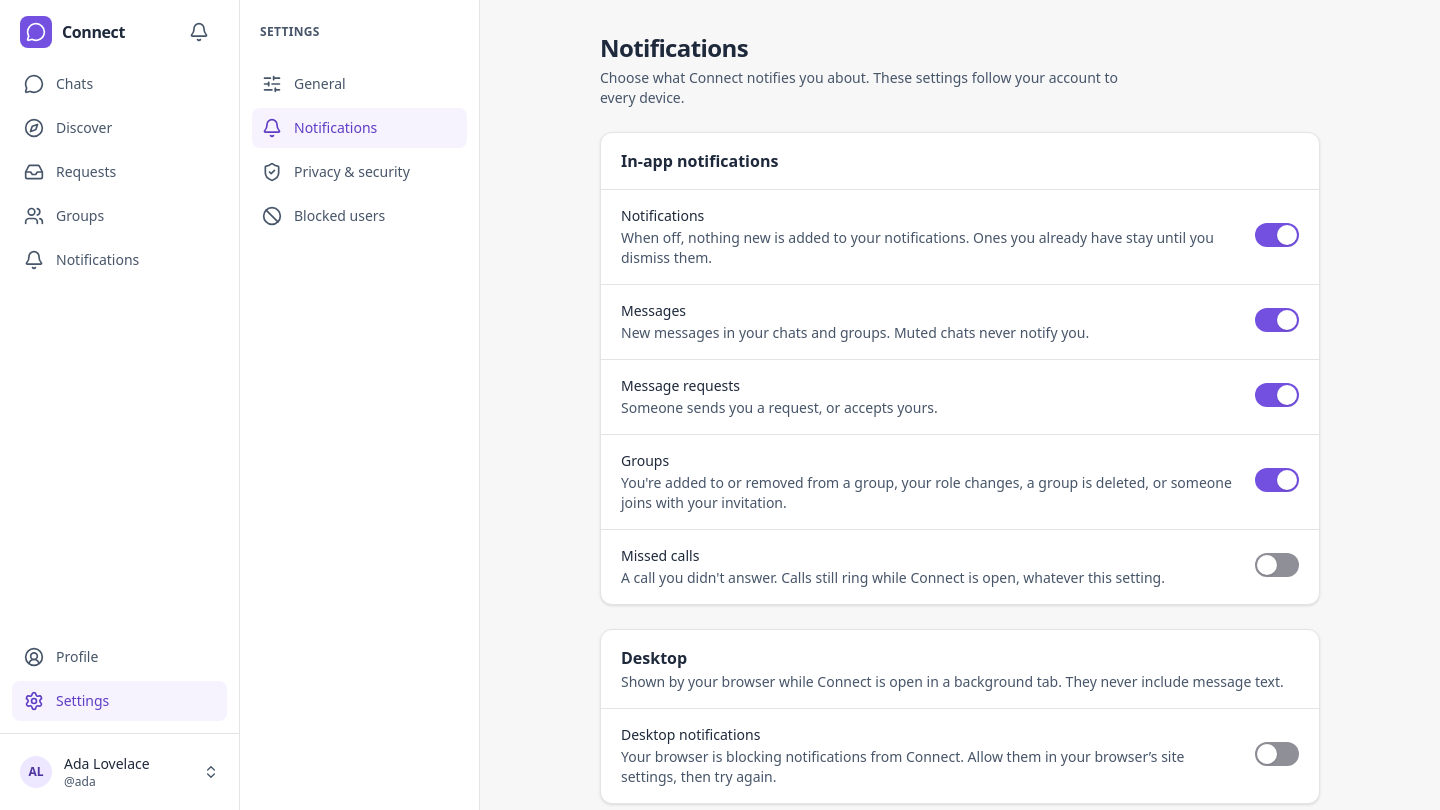
NotificationSettingsPage › saves each preference to the account
Click the 4th switch named "Groups" at coordinates (1277, 480), box [1255, 468, 1299, 492]
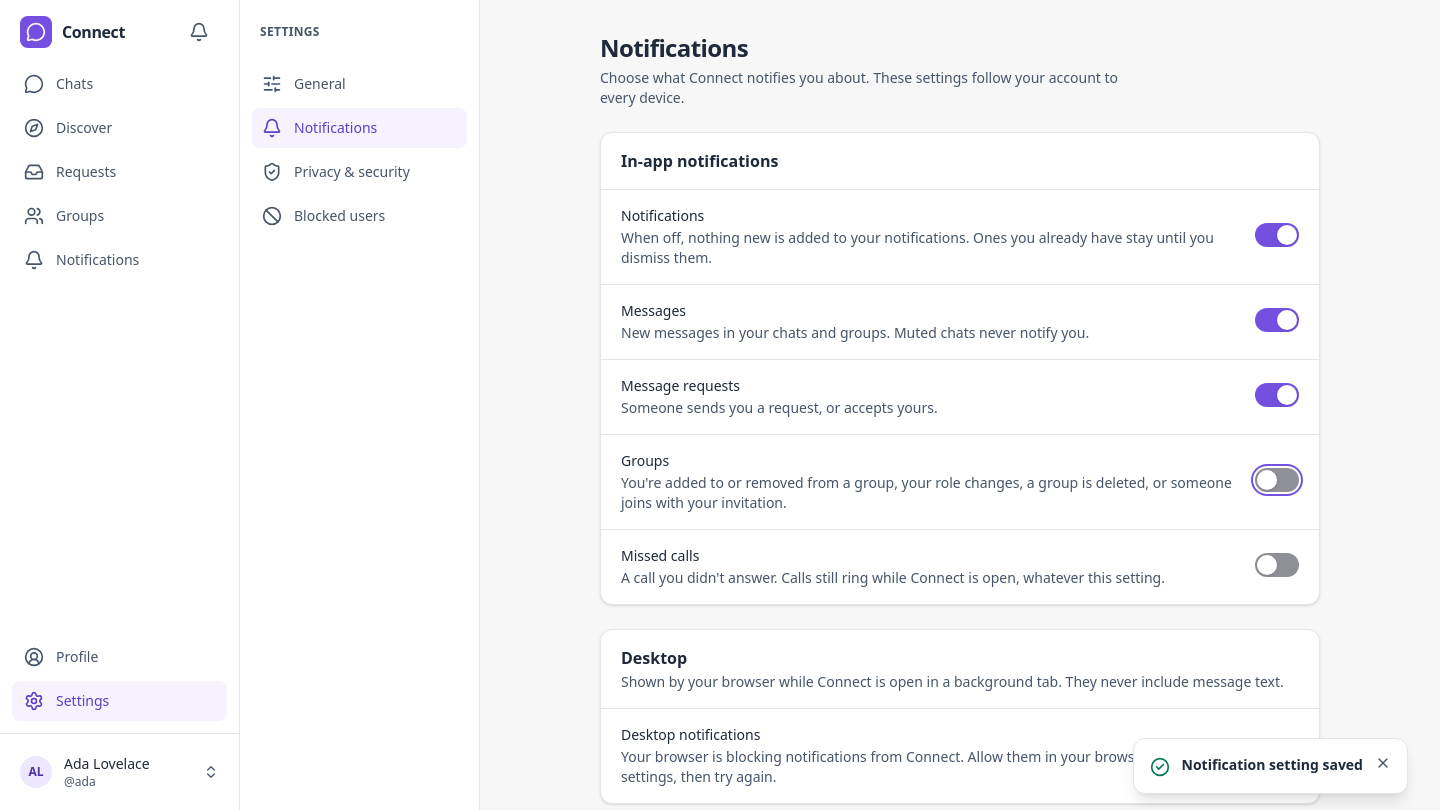
Now the 4th switch named "Groups" is not checked, box [1255, 468, 1299, 492]
// With notifications off, the categories read as off and can't change.
Click the 1st switch named "Notifications" at coordinates (1277, 235), box [1255, 223, 1299, 247]
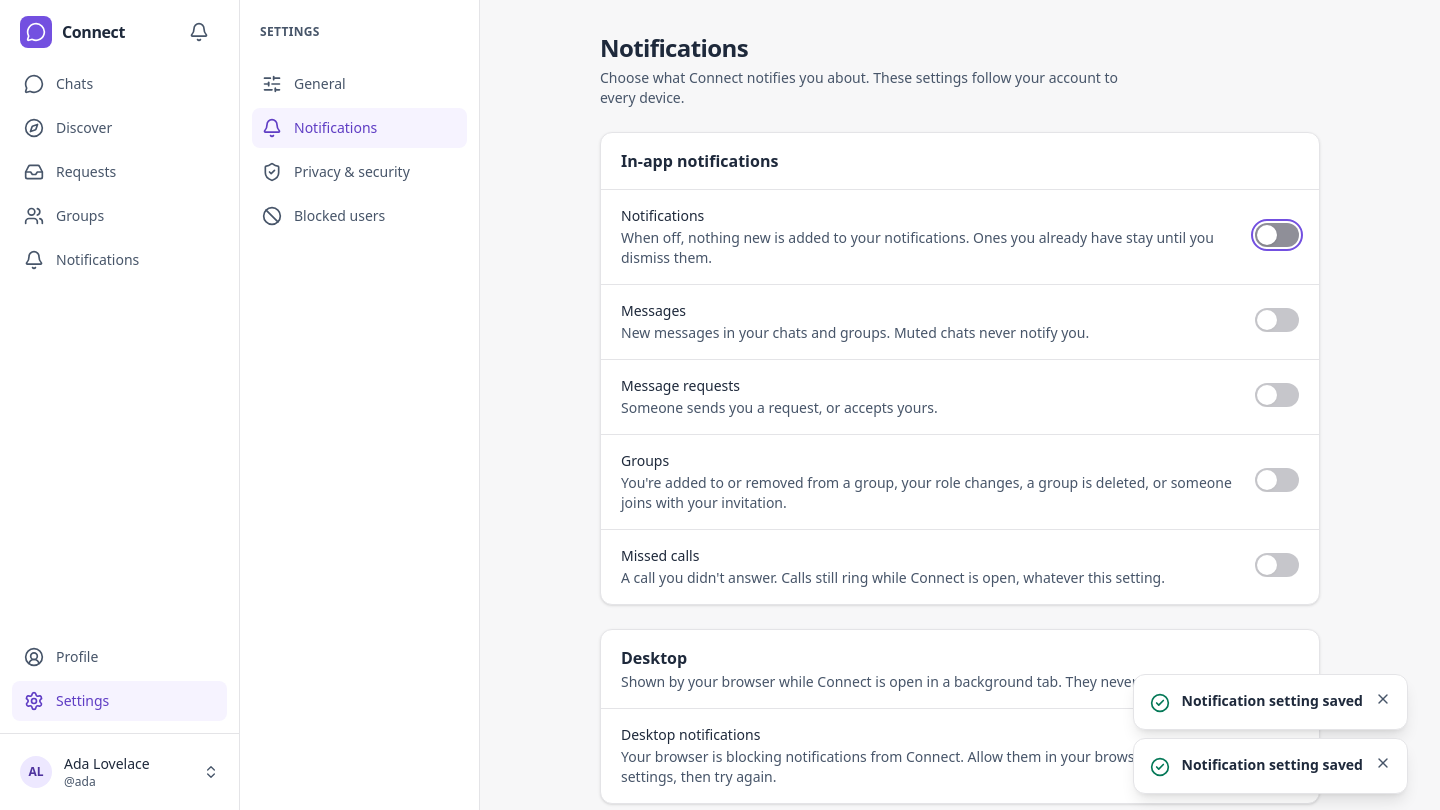
Now the 2nd switch named "Messages" is disabled, box [1255, 308, 1299, 332]
